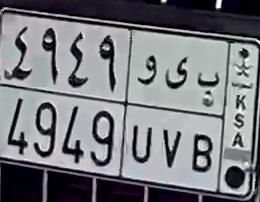4: (7, 23, 32, 158), (62, 28, 86, 164)
9: (87, 32, 118, 170), (33, 25, 59, 159)
B: (192, 59, 221, 180)
U: (129, 47, 158, 168)
V: (159, 50, 188, 172)
